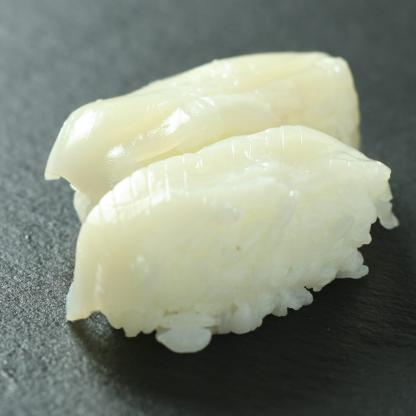ika: (57, 127, 407, 365)
